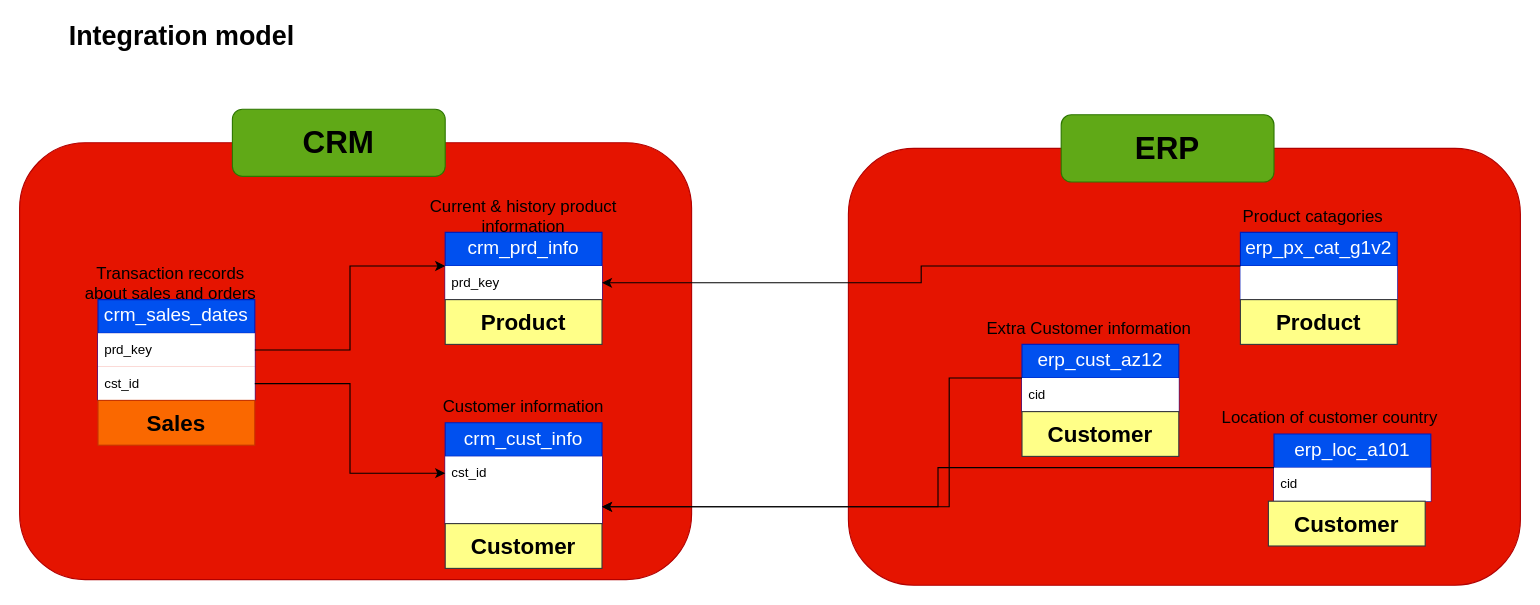
Some shapes in this 1540 by 605 pixel diagram are drawn without their labels. Each missing label, with the centre of its shape:
cst_key: the point at 523,506
Id: the point at 1318,282
